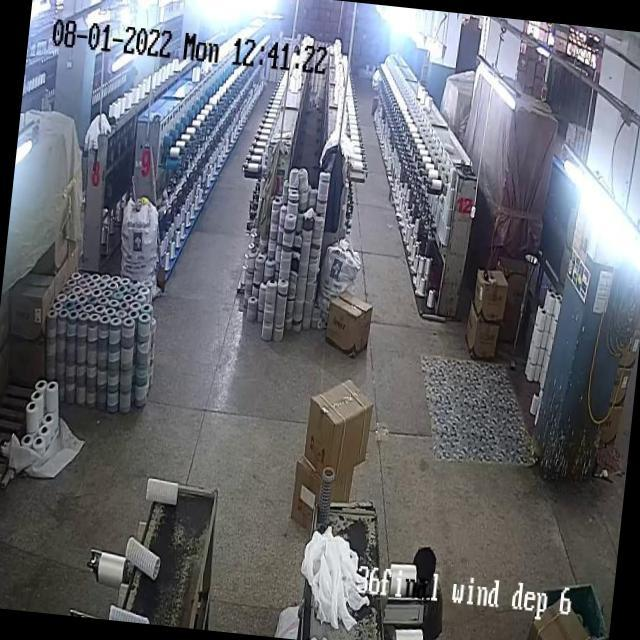person: (408, 541, 447, 640)
